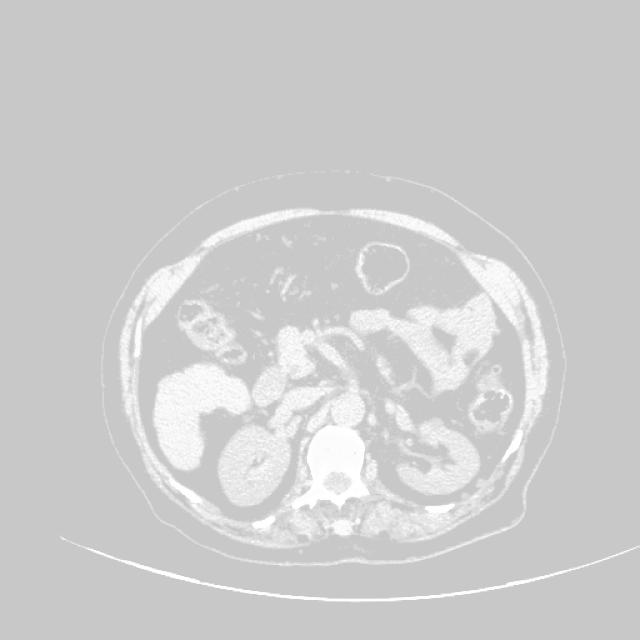cysts: (106, 177, 560, 565)
